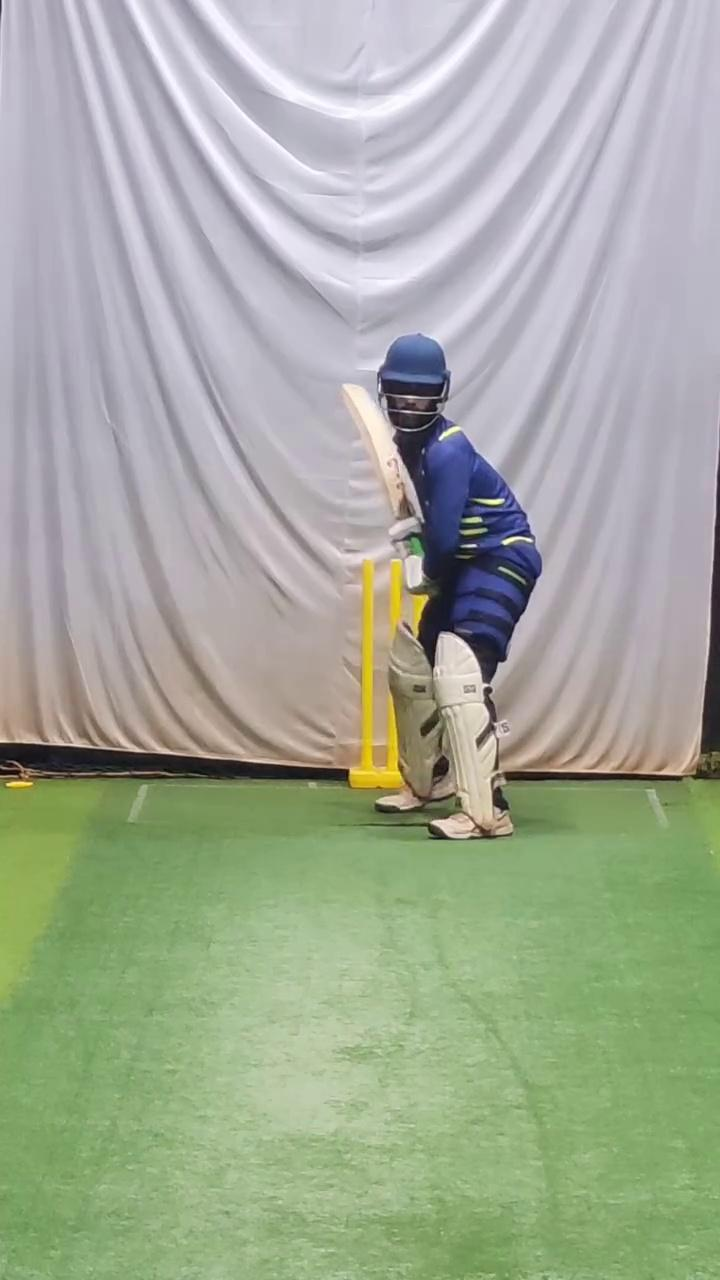bat: (334, 370, 420, 527)
